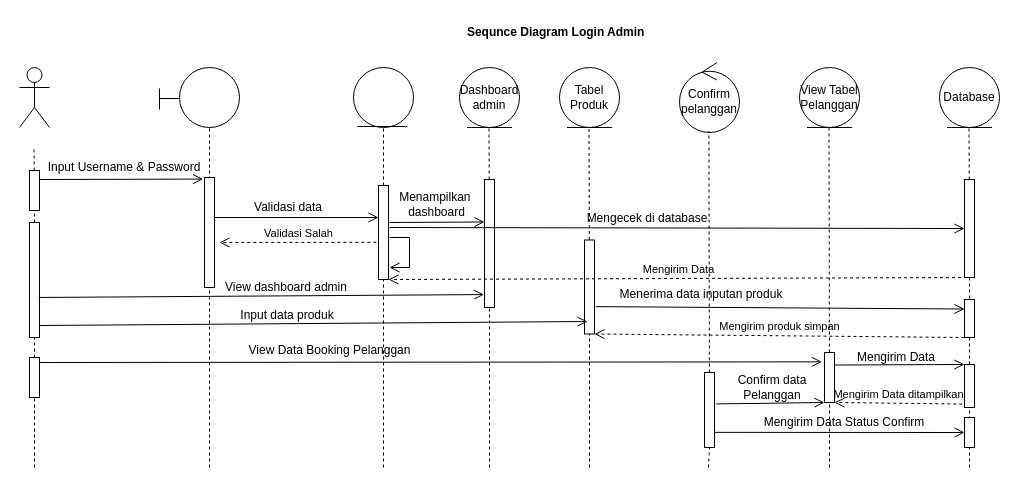
This 1017x486 diagram has some shape labels left out. Each missing label, with the box of its shape:
Admin: (18, 66, 50, 128)
Login Form: (178, 66, 240, 128)
Tabel Akun Admin: (352, 66, 414, 128)
